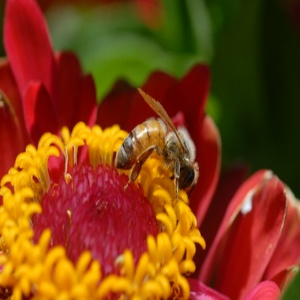bee: (113, 87, 196, 199)
